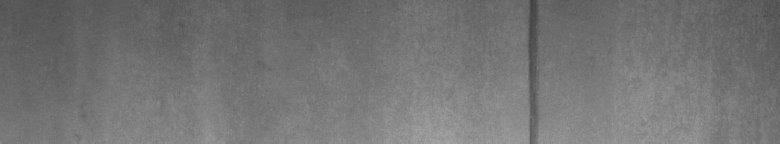hd: (520, 4, 543, 136)
